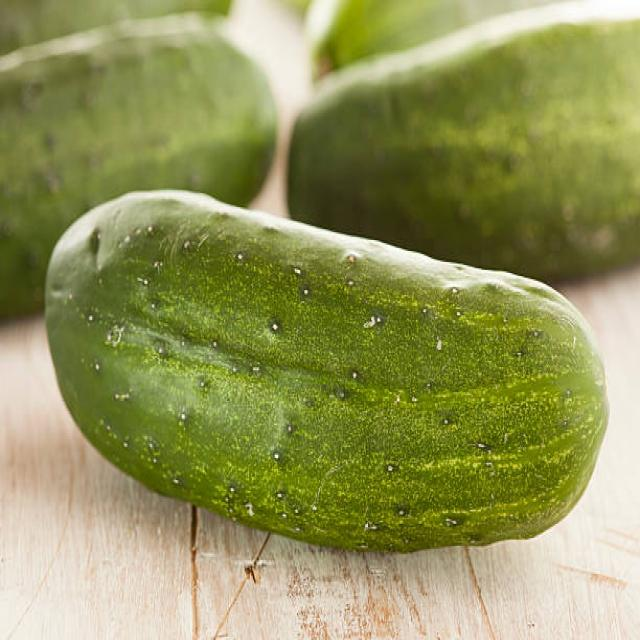cucumber: (47, 188, 610, 554)
